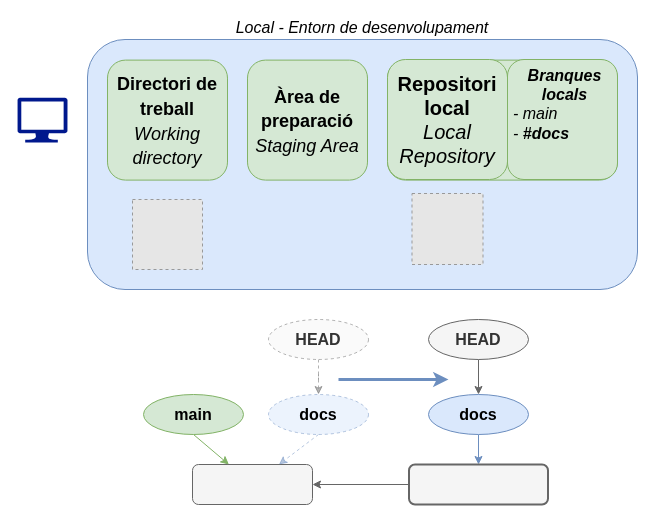
Some shapes in this 655 by 522 pixel diagram are drawn without their labels. Grey dashed boxes stand in for pictures. Here are the shapes that lost their labels. From the top down, the centre of each, then its label:
At point (252, 484): "Tíŧol 0b1b3b4".
At point (478, 484): "Subtítol documentació 1b2c5d6".
